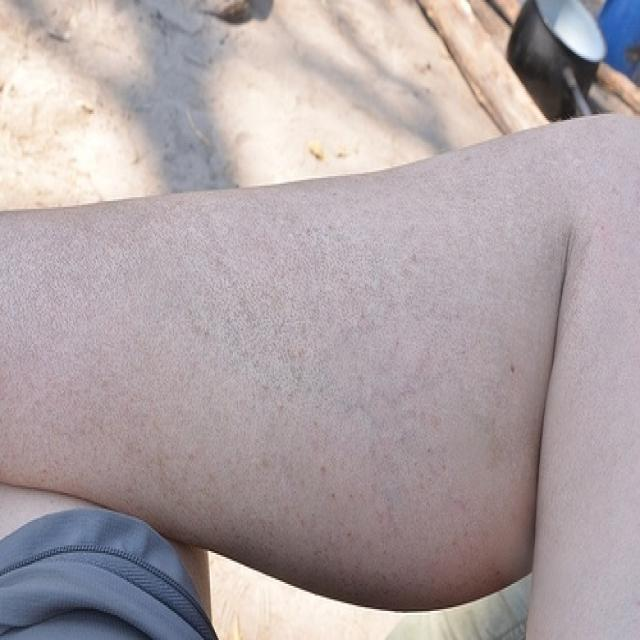piel: (0, 113, 639, 638)
